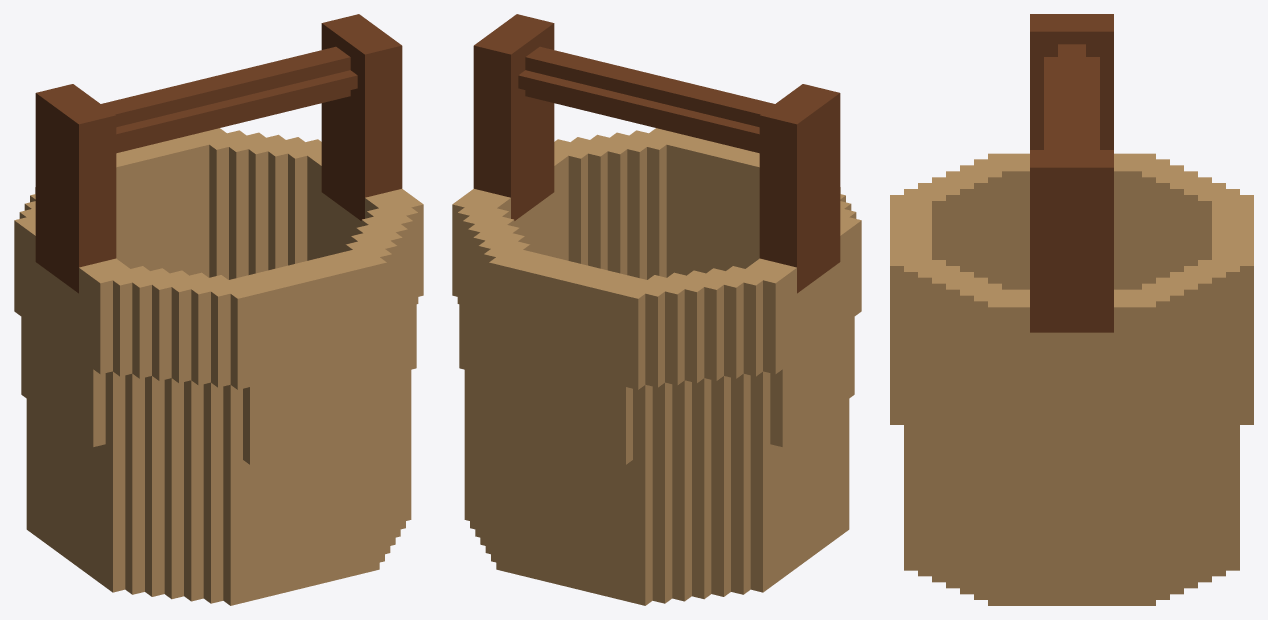
The model's file is bucket_wood.glb.
The picture shows the model from 3 angles, left to right: view 1: azimuth 30°, elevation 25°; view 2: azimuth 150°, elevation 25°; view 3: azimuth 270°, elevation 25°; orthographic projection. The views are drawn at different scales.
Visible parts, largest first — view 1: bucket_wood:compound; view 2: bucket_wood:compound; view 3: bucket_wood:compound.
Part boxes in pixels (x1,y1,x2,y2): bucket_wood:compound: (14,14,423,605); bucket_wood:compound: (452,14,861,605); bucket_wood:compound: (890,14,1253,605).
Bounding box in the file's own units: 0.26 × 0.35 × 0.26.
